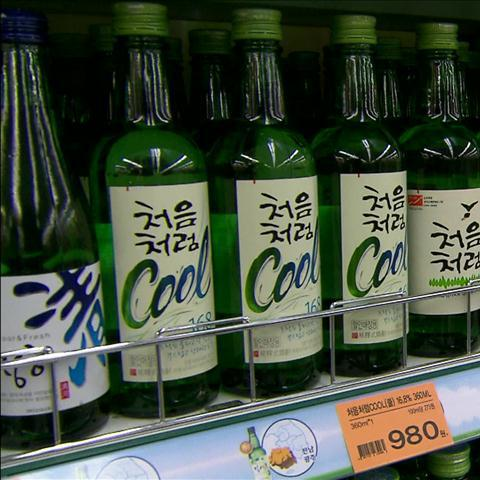soju: (2, 5, 478, 451)
